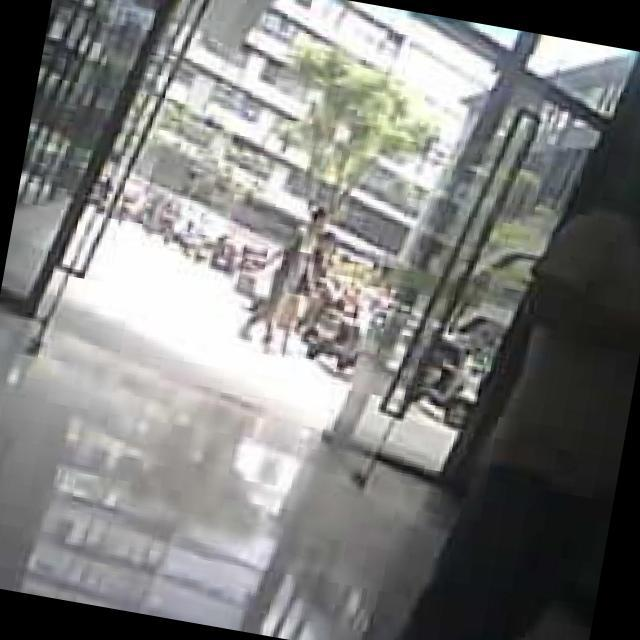person: (392, 107, 640, 640), (235, 196, 328, 355), (272, 218, 341, 352)
